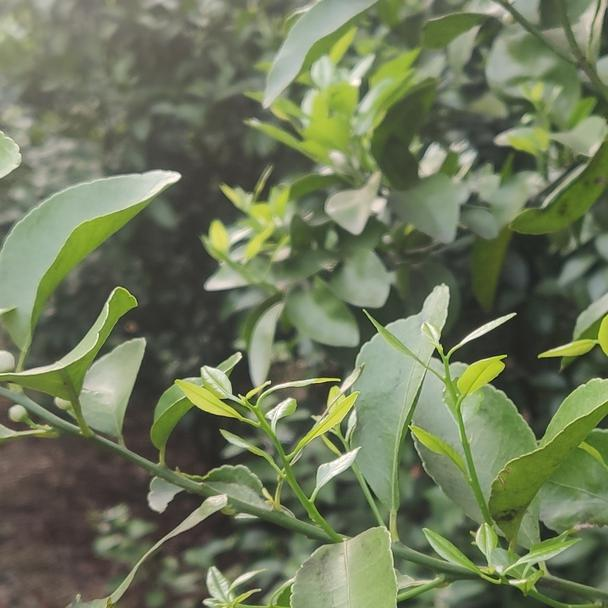shoot: (198, 348, 355, 517), (373, 301, 512, 479)
